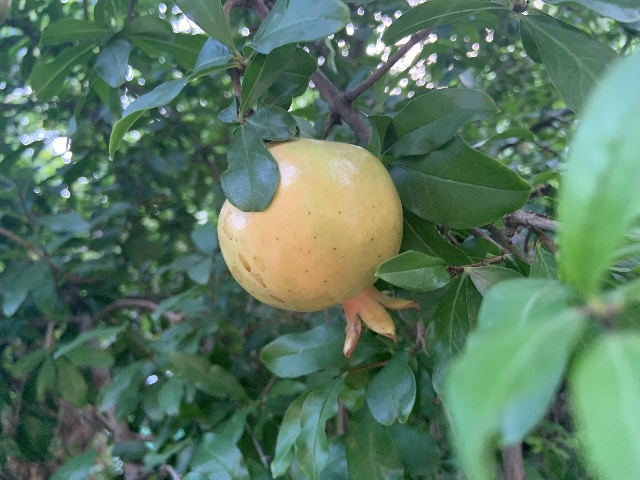mid-growth: (216, 137, 418, 356)
